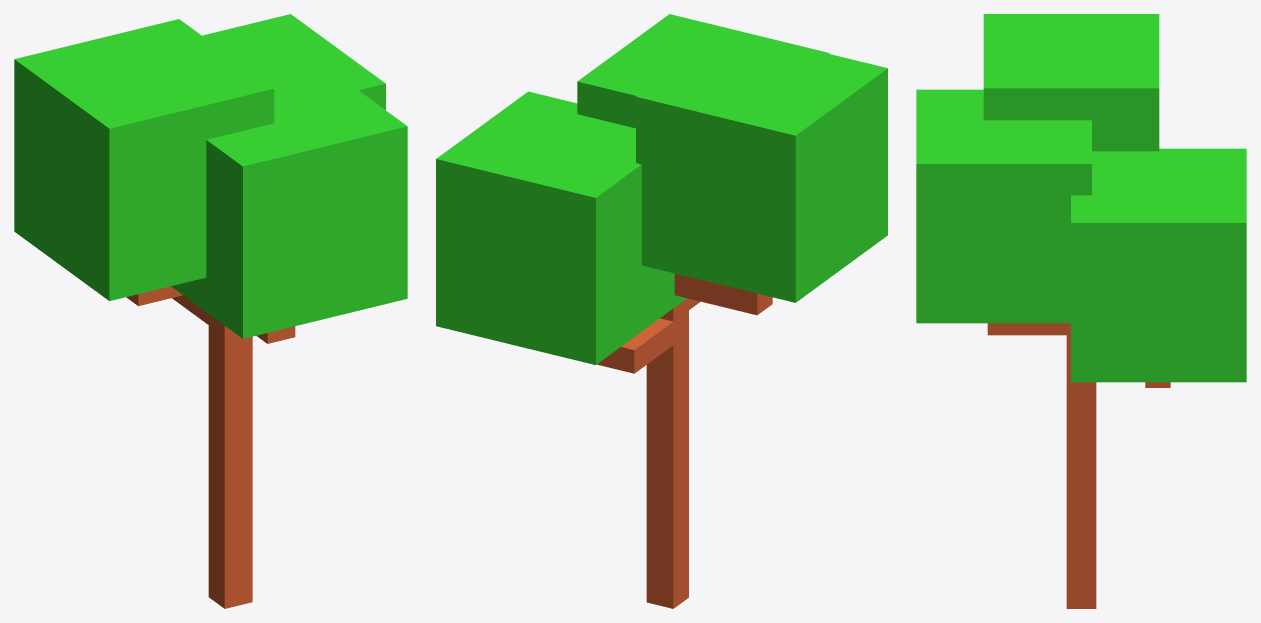
Rendered from tree1.fbx.
3 views of the same model, side by side, from view 1: azimuth 30°, elevation 25°; view 2: azimuth 150°, elevation 25°; view 3: azimuth 270°, elevation 25° (orthographic). The views are drawn at different scales.
Parts seen in each view (by area): view 1: Cube; view 2: Cube; view 3: Cube.
Part boxes in pixels (x1=…): Cube: x1=14, y1=14, x2=407, y2=608; Cube: x1=436, y1=14, x2=887, y2=608; Cube: x1=916, y1=14, x2=1246, y2=608.
Size of the model in its own units: 249 by 406 by 238.
